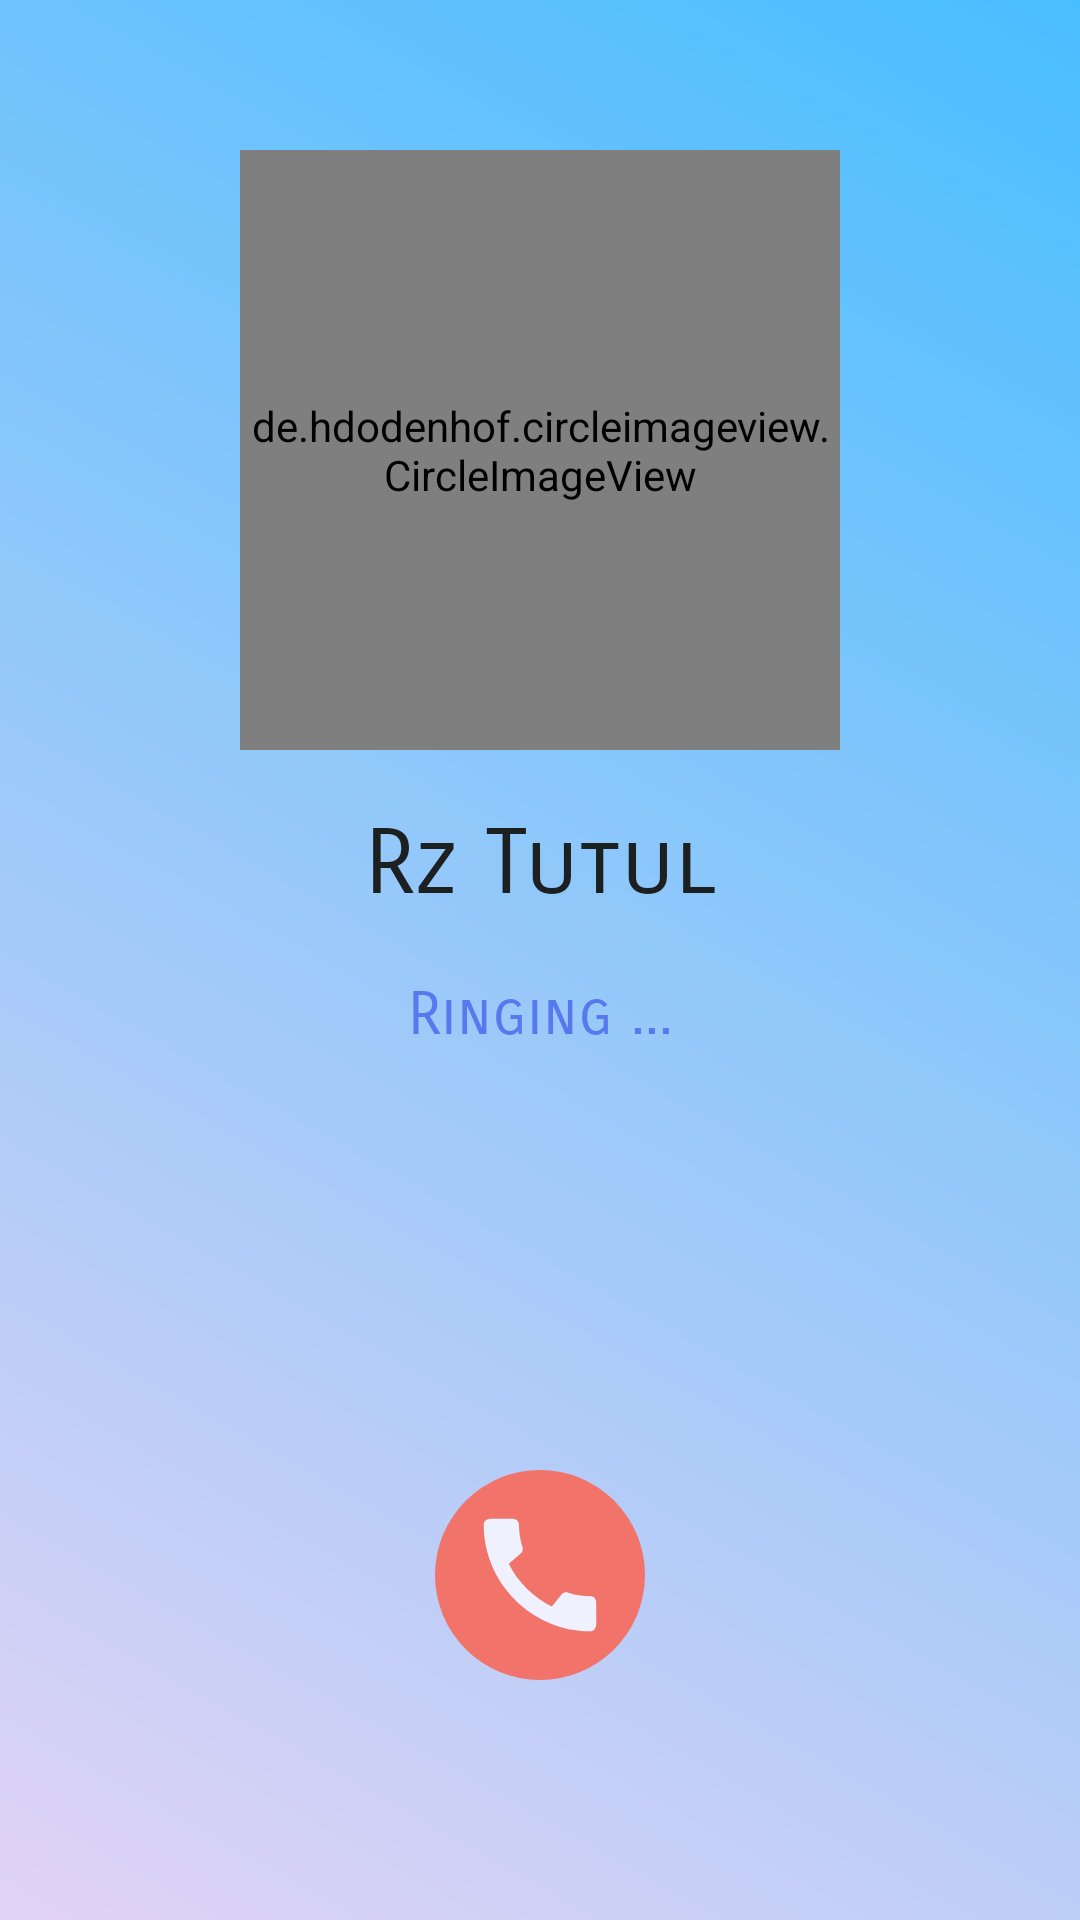

Where to tap for icons on this 1080 × 1920 app screen, as point (x, y):
call: point (540, 1575)
